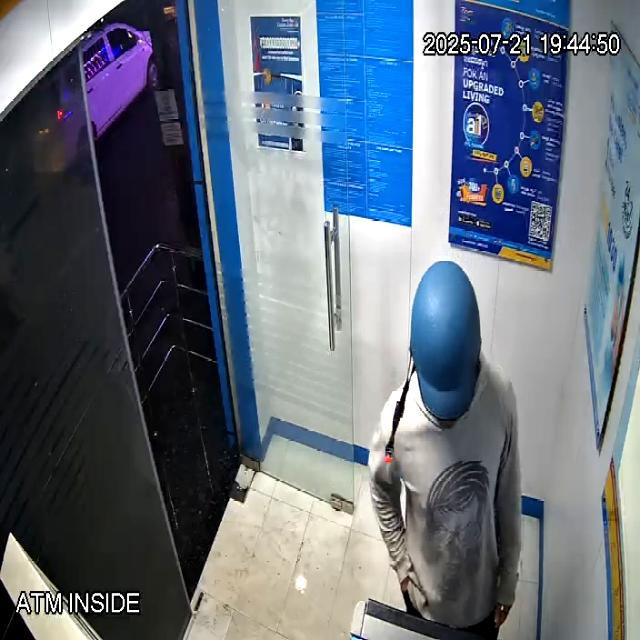helmet: (411, 258, 481, 419)
